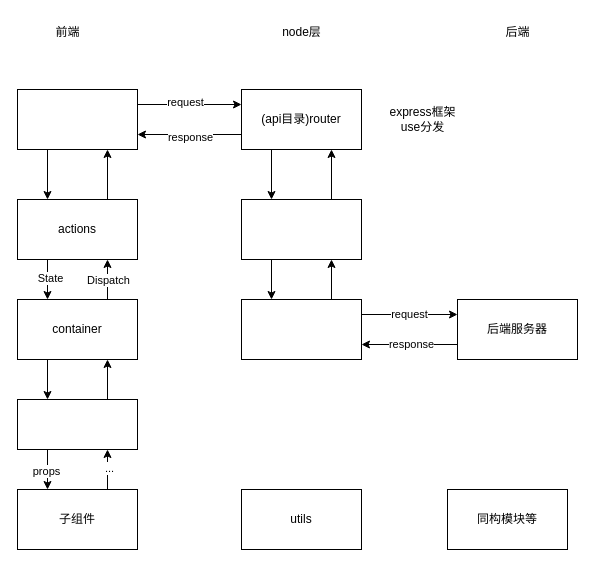
Image size: 595x575. Some labels were removed from this diagram. Here are the shapes that lost their labels. From the top down, the centre of each, then its label:
the point at 77,119: reducer
the point at 301,229: middle ware
the point at 301,329: node api
the point at 77,424: (page目录)组件
